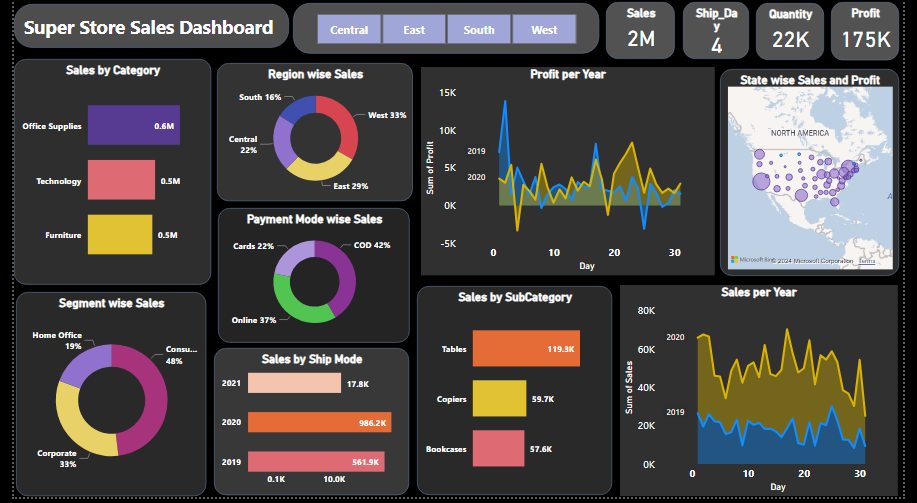

Layout of this report page (visuals, bound fields, positions):
{"tool":"powerbi","page":{"name":"Page 1","canvas":[1280,720],"ordinal":0},"visuals":[{"type":"clusteredBarChart","title":"Sales by Category","fields":{"Category":["Sheet1.Category"],"Y":["Sum(Sheet1.Sales)"]},"box":[0,89.3,283.7,325.4],"z":0},{"type":"clusteredBarChart","title":"Sales by SubCategory","fields":{"Category":["Sheet1.Sub-Category"],"Y":["Sum(Sheet1.Sales)"]},"box":[580.3,416.2,280.8,301],"z":1000},{"type":"clusteredBarChart","title":"Sales by Ship Mode","fields":{"Category":["Sheet1.Ship Year"],"Y":["Sum(Sheet1.Sales)"]},"box":[288,505.4,280.8,211.7],"z":2000},{"type":"stackedAreaChart","title":"Sales per Year","fields":{"Y":["Sum(Sheet1.Sales)"],"Series":["Sheet1.Order Year"],"Category":["Sheet1.Order Date.Variation.Date Hierarchy.Day"]},"box":[872.6,414.7,400.3,303.8],"z":3000},{"type":"areaChart","title":"Profit per Year","fields":{"Y":["Sum(Sheet1.Profit)"],"Series":["Sheet1.Order Year"],"Category":["Sheet1.Order Date.Variation.Date Hierarchy.Day"]},"box":[586.1,100.8,423.4,299.5],"z":4000},{"type":"map","title":"State wise Sales and Profit","fields":{"Category":["Sheet1.State"],"Size":["CountNonNull(Sheet1.Sales)"]},"box":[1016.6,103.7,257.8,298.1],"z":5000},{"type":"donutChart","title":"Segment wise Sales ","fields":{"Category":["Sheet1.Segment"],"Y":["Sum(Sheet1.Sales)"]},"box":[2.9,424.8,273.6,293.8],"z":6000},{"type":"donutChart","title":"Region wise Sales ","fields":{"Y":["Sum(Sheet1.Sales)"],"Category":["Sheet1.Region"]},"box":[292.3,95,282.2,198.7],"z":7000},{"type":"donutChart","title":"Payment Mode wise Sales ","fields":{"Y":["CountNonNull(Sheet1.Sales)"],"Category":["Sheet1.Payment Mode"]},"box":[293.8,303.8,276.5,194.4],"z":8000},{"type":"slicer","fields":{"Values":["Sheet1.Region"]},"box":[401.8,8.6,440.6,73.4],"z":9000},{"type":"textbox","box":[0,10.1,396,63.4],"z":10000},{"type":"card","title":"Sales","fields":{"Values":["Sum(Sheet1.Sales)"]},"box":[852.5,7.2,99.4,82.1],"z":11000},{"type":"card","title":"Profit","fields":{"Values":["Sum(Sheet1.Total_Profit)"]},"box":[1176.5,7.2,97.9,83.5],"z":12000},{"type":"card","title":"Quantity","fields":{"Values":["Sum(Sheet1.Quantity)"]},"box":[1068.5,8.6,97.9,82.1],"z":13000},{"type":"card","title":"Ship_Day","fields":{"Values":["Avg(Sheet1.AvgOrDelivery)"]},"box":[963.4,7.2,95,82.1],"z":14000}]}

Visuals, with their boxes in screenshot pixels (x1, y1, x2, y2), scaled from the page's 1280x720 canvas onto the 917x503 screenshot:
"Sales by Category" clusteredBarChart: {"x1": 0, "y1": 62, "x2": 203, "y2": 290}
"Sales by SubCategory" clusteredBarChart: {"x1": 416, "y1": 291, "x2": 617, "y2": 501}
"Sales by Ship Mode" clusteredBarChart: {"x1": 206, "y1": 353, "x2": 407, "y2": 501}
"Sales per Year" stackedAreaChart: {"x1": 625, "y1": 290, "x2": 912, "y2": 502}
"Profit per Year" areaChart: {"x1": 420, "y1": 70, "x2": 723, "y2": 280}
"State wise Sales and Profit" map: {"x1": 728, "y1": 72, "x2": 913, "y2": 281}
"Segment wise Sales " donutChart: {"x1": 2, "y1": 297, "x2": 198, "y2": 502}
"Region wise Sales " donutChart: {"x1": 209, "y1": 66, "x2": 412, "y2": 205}
"Payment Mode wise Sales " donutChart: {"x1": 210, "y1": 212, "x2": 409, "y2": 348}
slicer - Sheet1.Region: {"x1": 288, "y1": 6, "x2": 604, "y2": 57}
textbox: {"x1": 0, "y1": 7, "x2": 284, "y2": 51}
"Sales" card: {"x1": 611, "y1": 5, "x2": 682, "y2": 62}
"Profit" card: {"x1": 843, "y1": 5, "x2": 913, "y2": 63}
"Quantity" card: {"x1": 765, "y1": 6, "x2": 836, "y2": 63}
"Ship_Day" card: {"x1": 690, "y1": 5, "x2": 758, "y2": 62}
